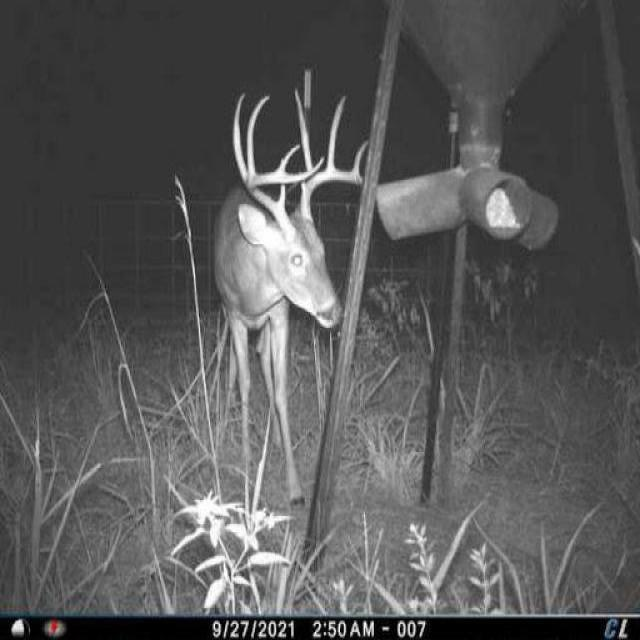deer: (192, 80, 384, 531)
